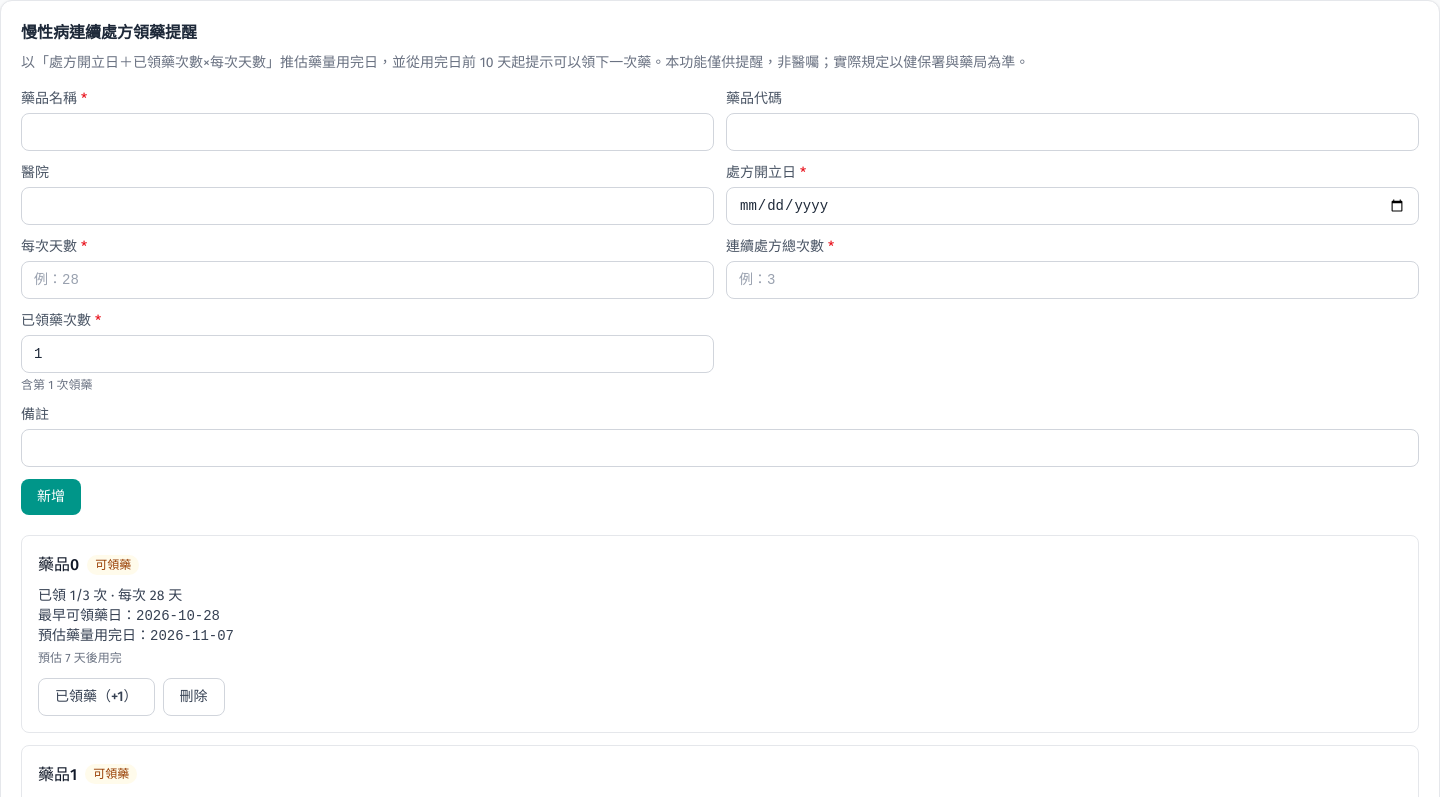
RefillPlanner › 唯讀與限制 › 已達 200 筆上限時拒絕新增
Type "降血壓藥" into the field labelled "藥品名稱" at coordinates (368, 132), box [21,113,714,151]
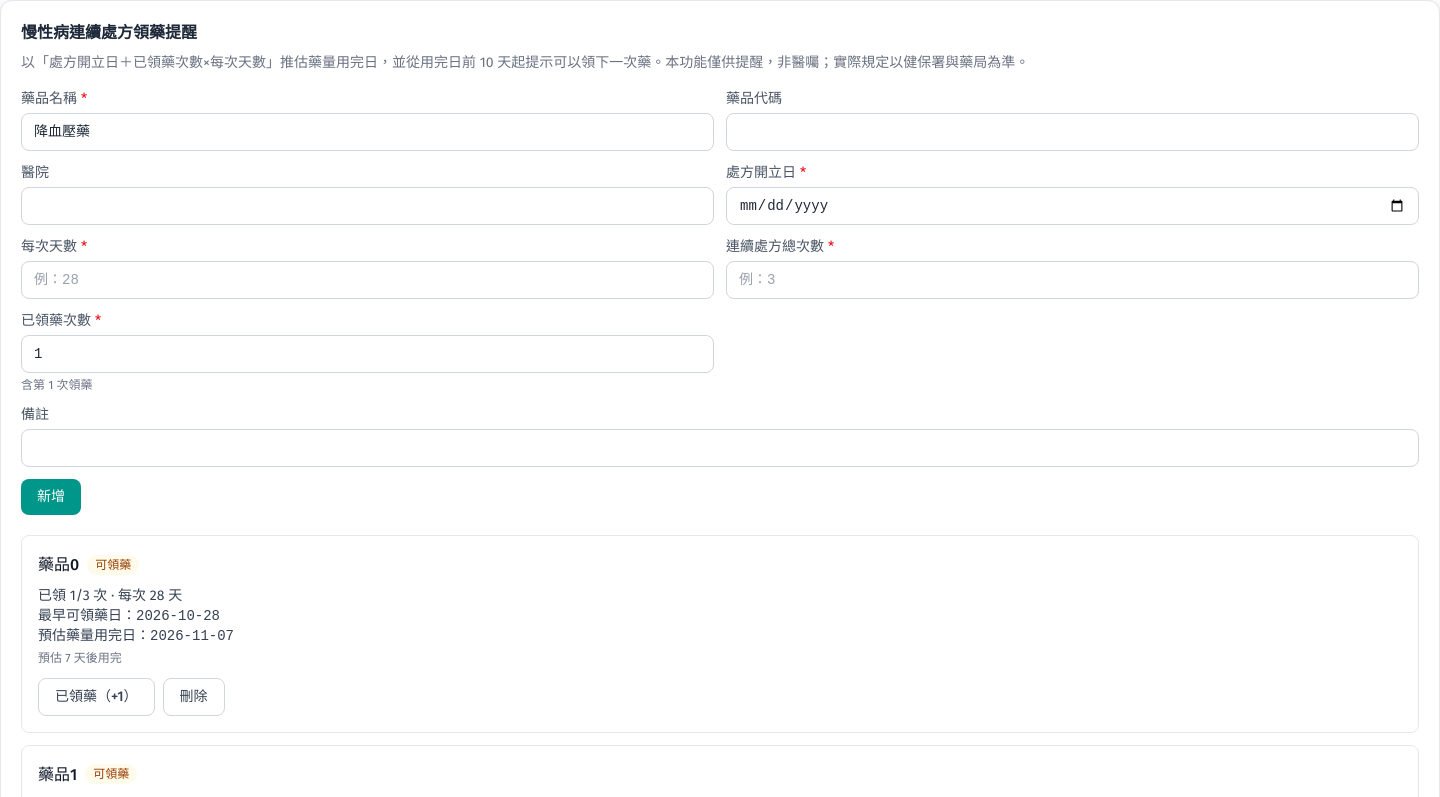
Type "2026-10-10" into the date field labelled "處方開立日" at coordinates (1072, 206), box [726,187,1419,225]
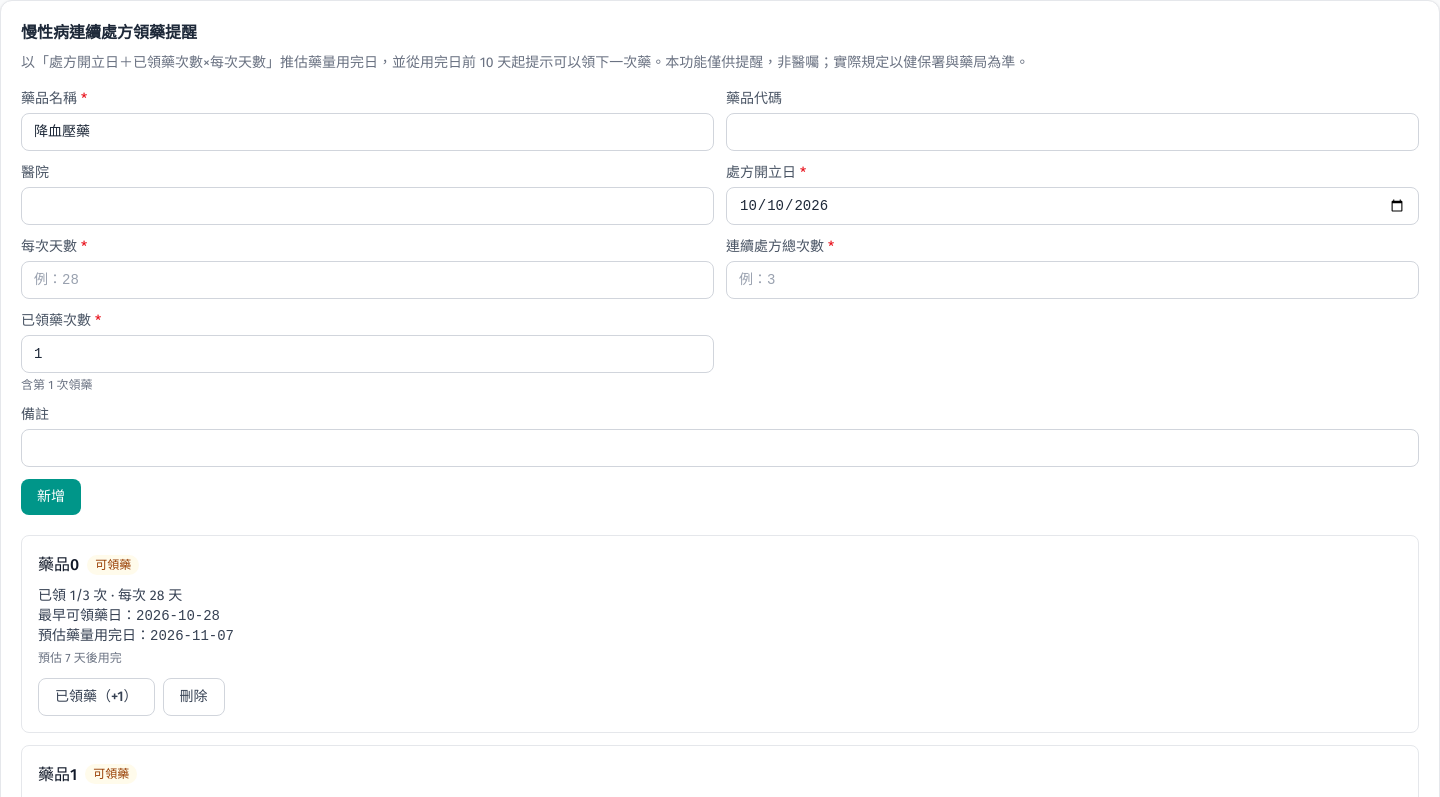
Type "28" into the field labelled "每次天數" at coordinates (368, 280), box [21,261,714,299]
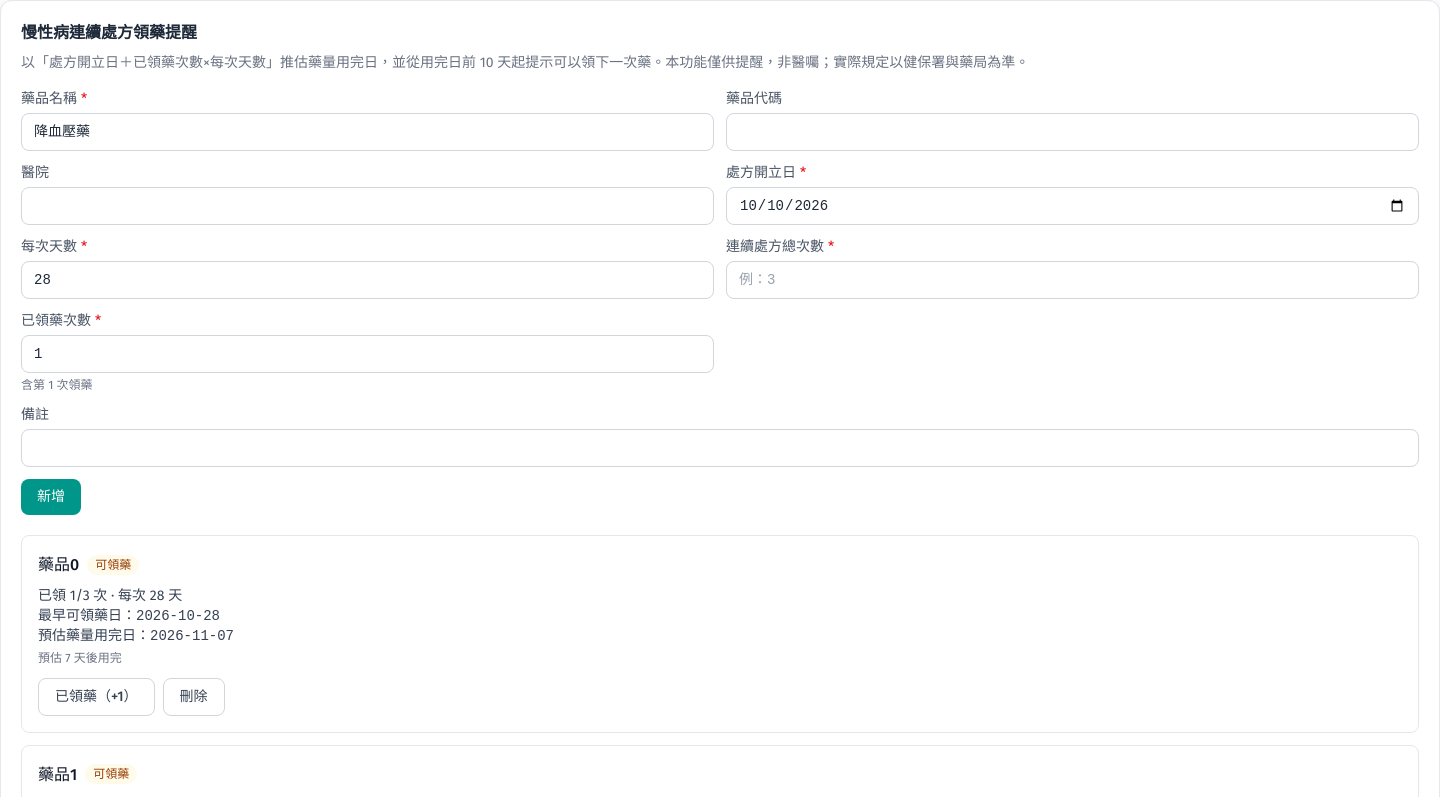
Type "3" into the field labelled "連續處方總次數" at coordinates (1072, 280), box [726,261,1419,299]
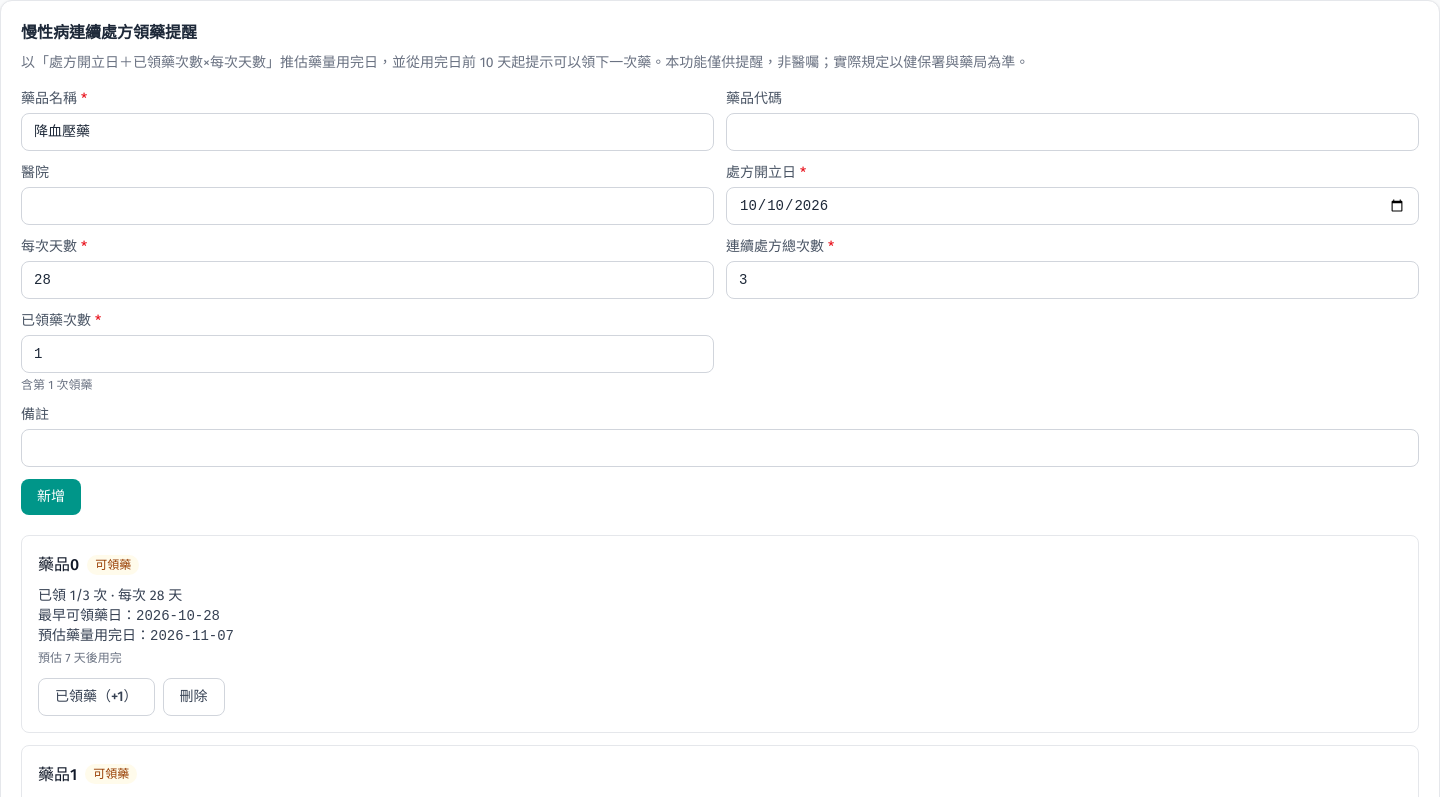
Click the button "新增" at coordinates (51, 497), box [21,479,81,515]
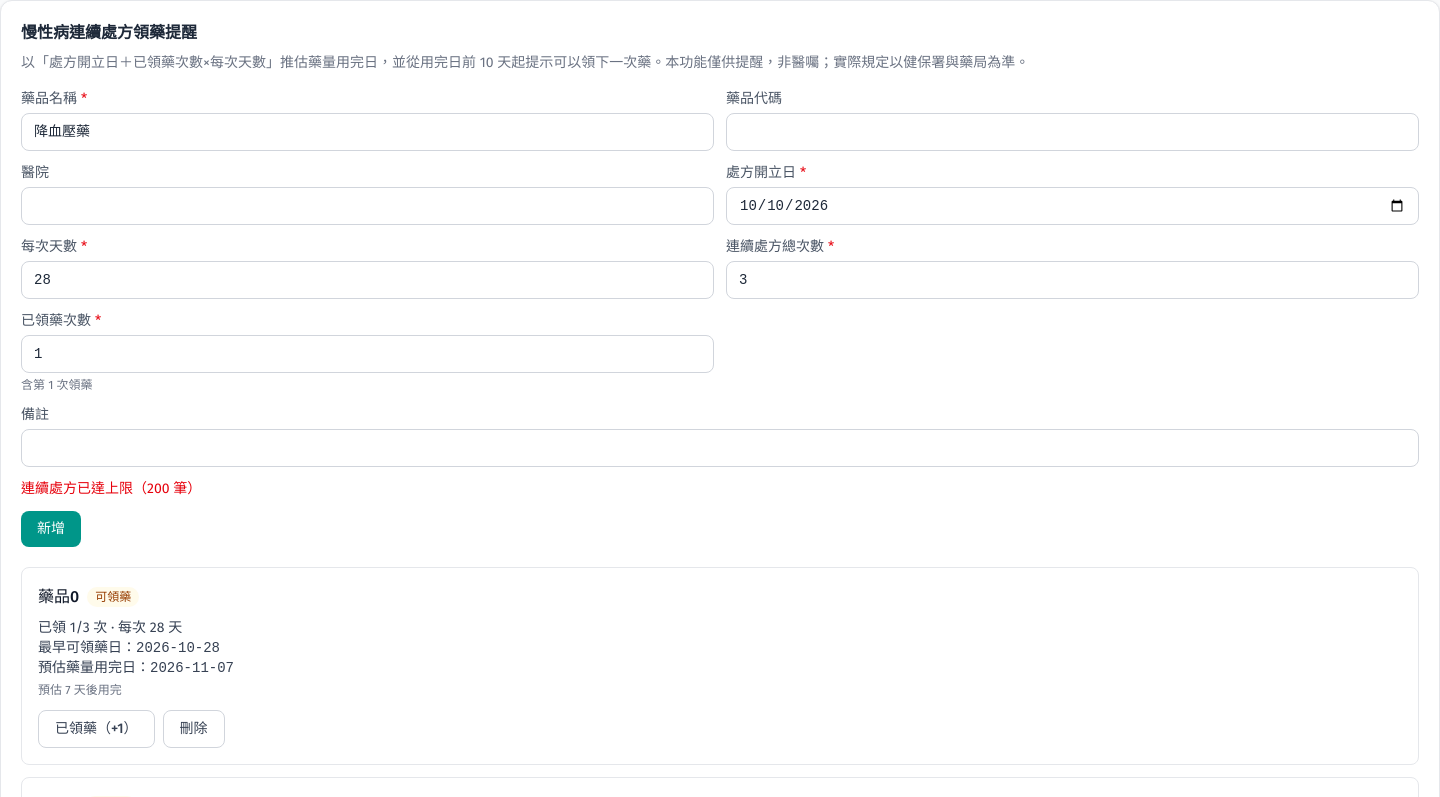
expect the message "連續處方已達上限（200 筆）" is shown: met, box [21,480,201,497]
